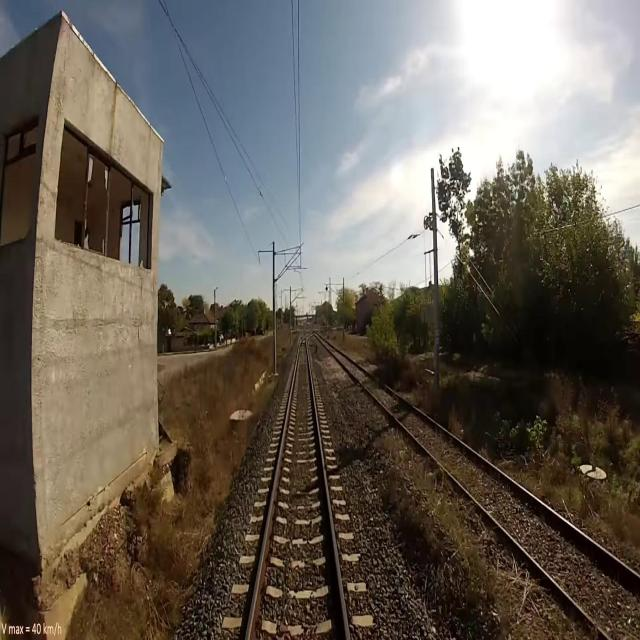rail-track: (250, 340, 344, 639)
